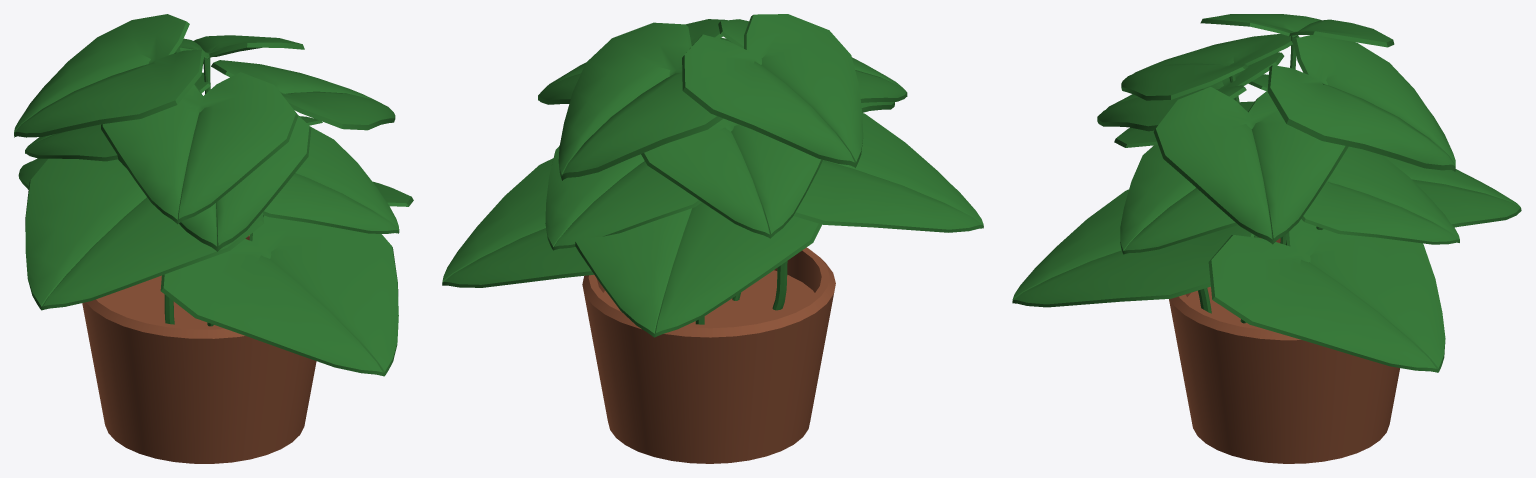
The model's file is flower.glb.
3 renders of one model, left to right at view 1: azimuth 30°, elevation 25°; view 2: azimuth 150°, elevation 25°; view 3: azimuth 270°, elevation 25°, orthographic. The views are drawn at different scales.
Visible parts, largest first — view 1: Flower, FlowerLeaf1, FlowerLeaf2, FlowerLeaf6, FlowerLeaf10, FlowerLeaf5, FlowerLeaf9, FlowerLeaf12, FlowerLeaf7, FlowerLeaf11, FlowerLeaf4, FlowerLeaf3; view 2: Flower, FlowerLeaf10, FlowerLeaf3, FlowerLeaf11, FlowerLeaf2, FlowerLeaf7, FlowerLeaf4, FlowerLeaf8, FlowerLeaf6, FlowerLeaf12; view 3: Flower, FlowerLeaf4, FlowerLeaf12, FlowerLeaf11, FlowerLeaf1, FlowerLeaf8, FlowerLeaf5, FlowerLeaf6, FlowerLeaf3, FlowerLeaf10, FlowerLeaf9, FlowerLeaf2.
Boxes of the visible parts, <box> form: Flower: <box>82,235,316,463</box>; FlowerLeaf1: <box>160,215,398,376</box>; FlowerLeaf2: <box>25,158,264,324</box>; FlowerLeaf6: <box>101,72,298,224</box>; FlowerLeaf10: <box>14,14,204,137</box>; FlowerLeaf5: <box>263,126,399,233</box>; FlowerLeaf9: <box>117,115,311,326</box>; FlowerLeaf12: <box>211,60,395,130</box>; FlowerLeaf7: <box>25,72,210,161</box>; FlowerLeaf11: <box>174,35,304,93</box>; FlowerLeaf4: <box>373,181,413,206</box>; FlowerLeaf3: <box>18,158,47,189</box>; Flower: <box>582,247,835,463</box>; FlowerLeaf10: <box>682,14,863,167</box>; FlowerLeaf3: <box>575,202,821,337</box>; FlowerLeaf11: <box>558,22,723,180</box>; FlowerLeaf2: <box>772,113,983,310</box>; FlowerLeaf7: <box>641,118,822,238</box>; FlowerLeaf4: <box>442,158,593,287</box>; FlowerLeaf8: <box>545,146,701,250</box>; FlowerLeaf6: <box>718,19,907,102</box>; FlowerLeaf12: <box>538,19,727,104</box>; Flower: <box>1169,237,1399,463</box>; FlowerLeaf4: <box>1208,219,1445,372</box>; FlowerLeaf12: <box>1153,87,1348,323</box>; FlowerLeaf11: <box>1267,35,1455,245</box>; FlowerLeaf1: <box>1012,189,1254,313</box>; FlowerLeaf8: <box>1301,146,1459,244</box>; FlowerLeaf5: <box>1120,145,1237,254</box>; FlowerLeaf6: <box>1121,34,1299,237</box>; FlowerLeaf3: <box>1383,155,1521,227</box>; FlowerLeaf10: <box>1200,14,1394,244</box>; FlowerLeaf9: <box>1097,52,1284,131</box>; FlowerLeaf2: <box>1114,101,1259,237</box>.
Bounding box in the file's own units: 0.8166 × 0.7363 × 0.8753.
